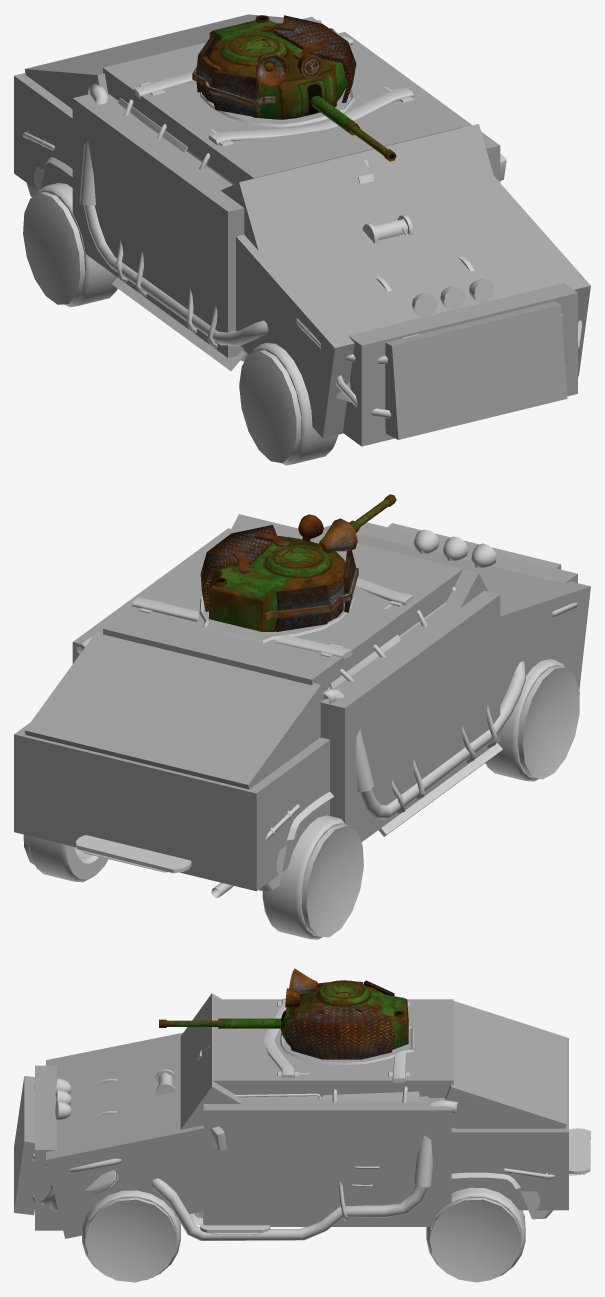
File: mh_KimGasparella_HummerH2_000.fbx
The picture shows the model from 3 angles, top to bottom: view 1: azimuth 30°, elevation 25°; view 2: azimuth 150°, elevation 25°; view 3: azimuth 270°, elevation 25°; orthographic projection. The views are drawn at different scales.
Visible parts, largest first — view 1: pCube3, pCube10, pCube7, pCube1, pCube2, Turret, Armor, pCube6, Wheel_FR, Wheel_RR, pCube4, pCube5 (+2 smaller); view 2: pCube4, pCube5, pCube10, pCube2, Turret, Armor, pCube3, Wheel_RR, Wheel_FR, CarBody, Wheel_RL, pCube6 (+2 smaller); view 3: pCube10, pCube3, pCube2, pCube5, Armor, Turret, pCube4, Wheel_RL, Wheel_FL, pCube7, pCube6, CarBody (+2 smaller).
Boxes of the visible parts, x1,y1,x2,y2 form: pCube3: (236, 176, 590, 438); pCube10: (72, 32, 500, 357); pCube7: (221, 124, 498, 250); pCube1: (385, 301, 567, 439); pCube2: (103, 16, 462, 184); Turret: (192, 15, 356, 119); Armor: (22, 28, 582, 418); pCube6: (343, 283, 577, 446); Wheel_FR: (239, 342, 338, 465); Wheel_RR: (23, 183, 117, 307); pCube4: (14, 73, 72, 189); pCube5: (25, 14, 321, 108); pCube4: (14, 722, 329, 891); pCube5: (24, 630, 324, 789); pCube10: (72, 528, 500, 842); pCube2: (103, 518, 462, 691); Turret: (200, 514, 358, 631); Armor: (76, 529, 581, 873); pCube3: (322, 525, 590, 701); Wheel_RR: (262, 815, 363, 939); Wheel_FR: (485, 659, 579, 781); CarBody: (132, 578, 445, 897); Wheel_RL: (23, 834, 108, 882); pCube6: (356, 522, 577, 583); pCube10: (203, 1098, 451, 1226); pCube3: (46, 1033, 203, 1238); pCube2: (213, 999, 453, 1097); pCube5: (445, 1001, 566, 1128); Armor: (32, 1026, 590, 1240); Turret: (280, 968, 408, 1059); pCube4: (451, 1038, 568, 1210); Wheel_RL: (426, 1187, 525, 1282); Wheel_FL: (82, 1190, 180, 1282); pCube7: (180, 993, 241, 1129); pCube6: (35, 1065, 62, 1230); CarBody: (96, 996, 552, 1225).
Size of what is drawn, in the model's own units: 262 by 261 by 554.
